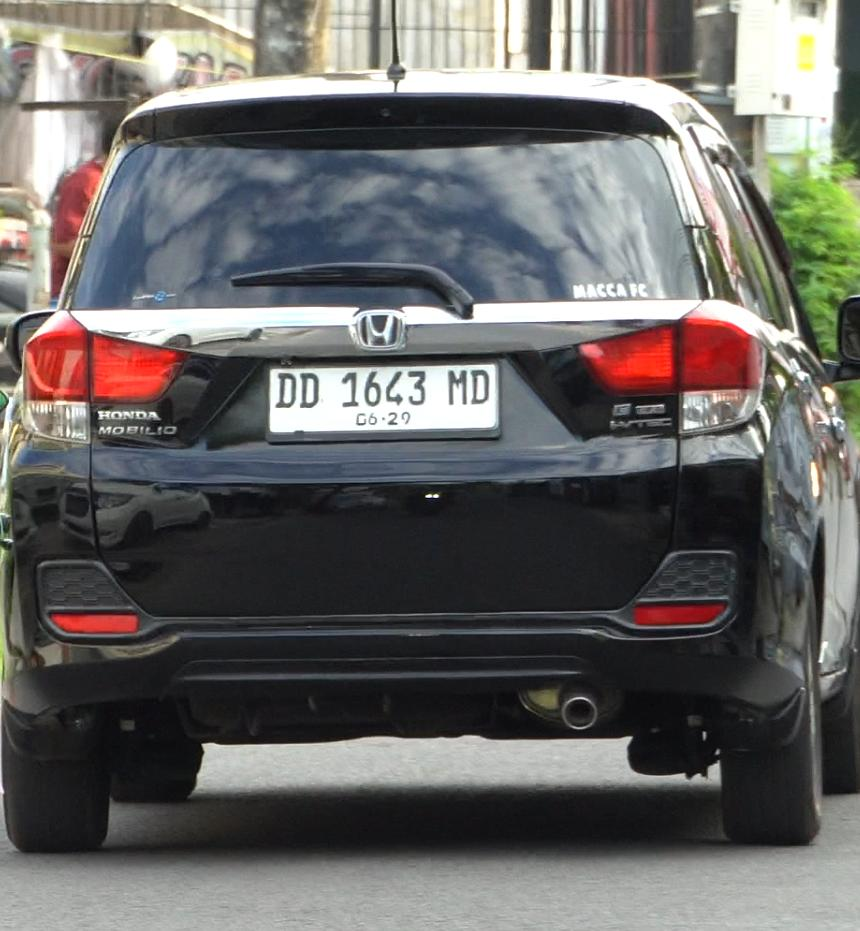number-plate: (265, 358, 512, 435)
